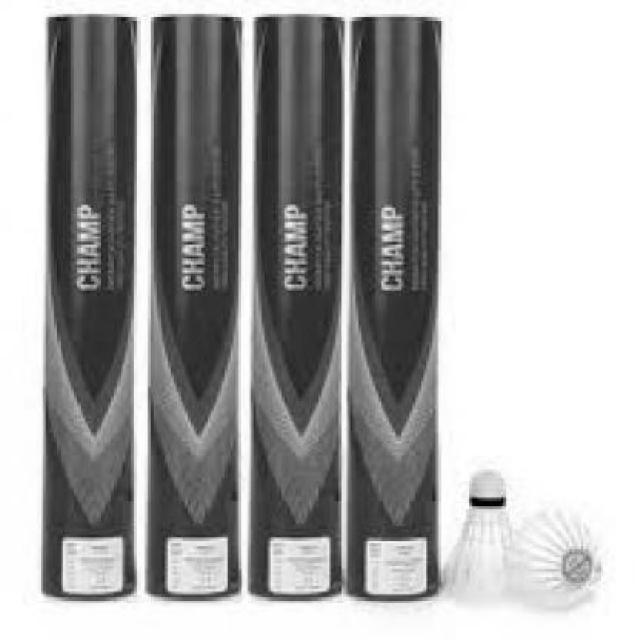Shuttlecock: (506, 505, 605, 609)
